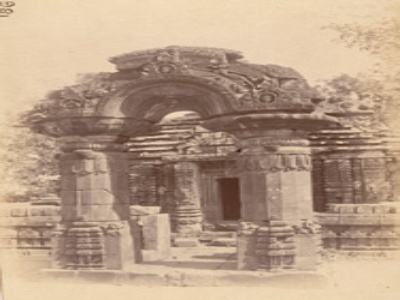torana: (54, 43, 326, 256)
